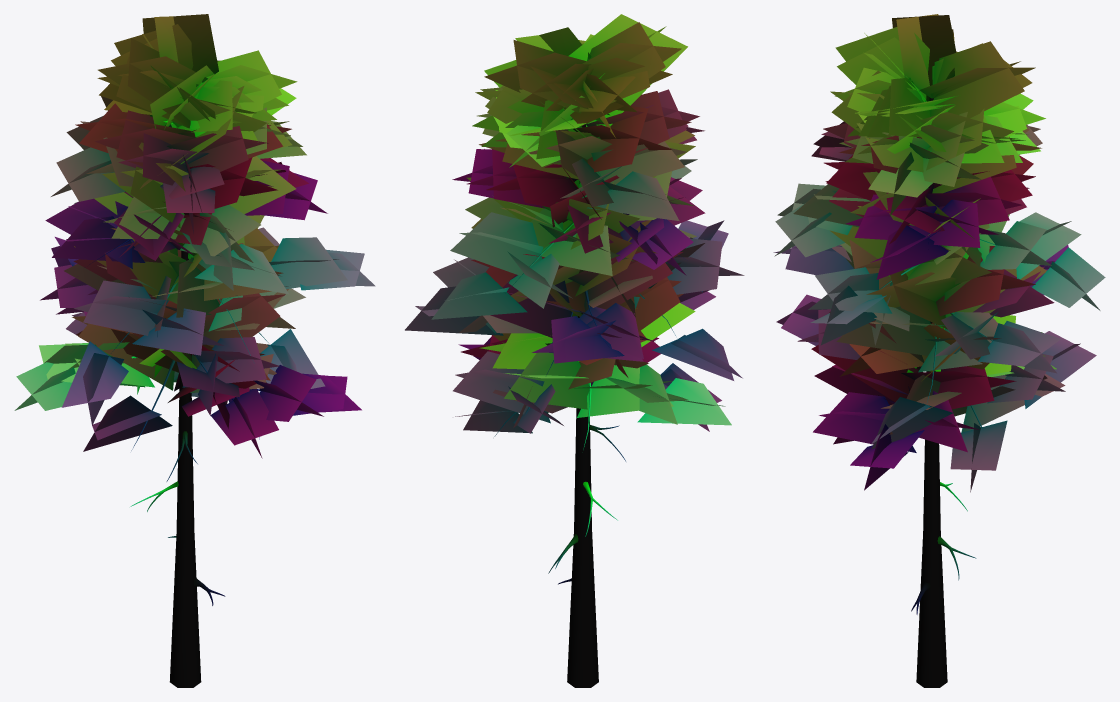
File: M_Pine_1_12.fbx
3 views of the same model, side by side, from view 1: azimuth 30°, elevation 25°; view 2: azimuth 150°, elevation 25°; view 3: azimuth 270°, elevation 25° (orthographic).
Parts seen in each view (by area): view 1: Tree_12; view 2: Tree_12; view 3: Tree_12.
Boxes of the visible parts, bbox=[...] form: Tree_12: bbox=[14, 14, 375, 687]; Tree_12: bbox=[405, 14, 744, 687]; Tree_12: bbox=[773, 14, 1105, 687].
Bounding box in the file's own units: 728 × 1495 × 698.
